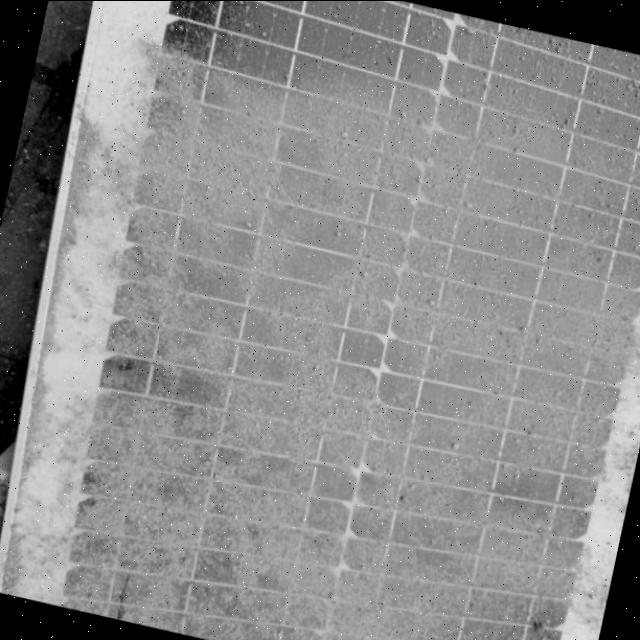Surface Contaminant: (4, 0, 640, 640)
